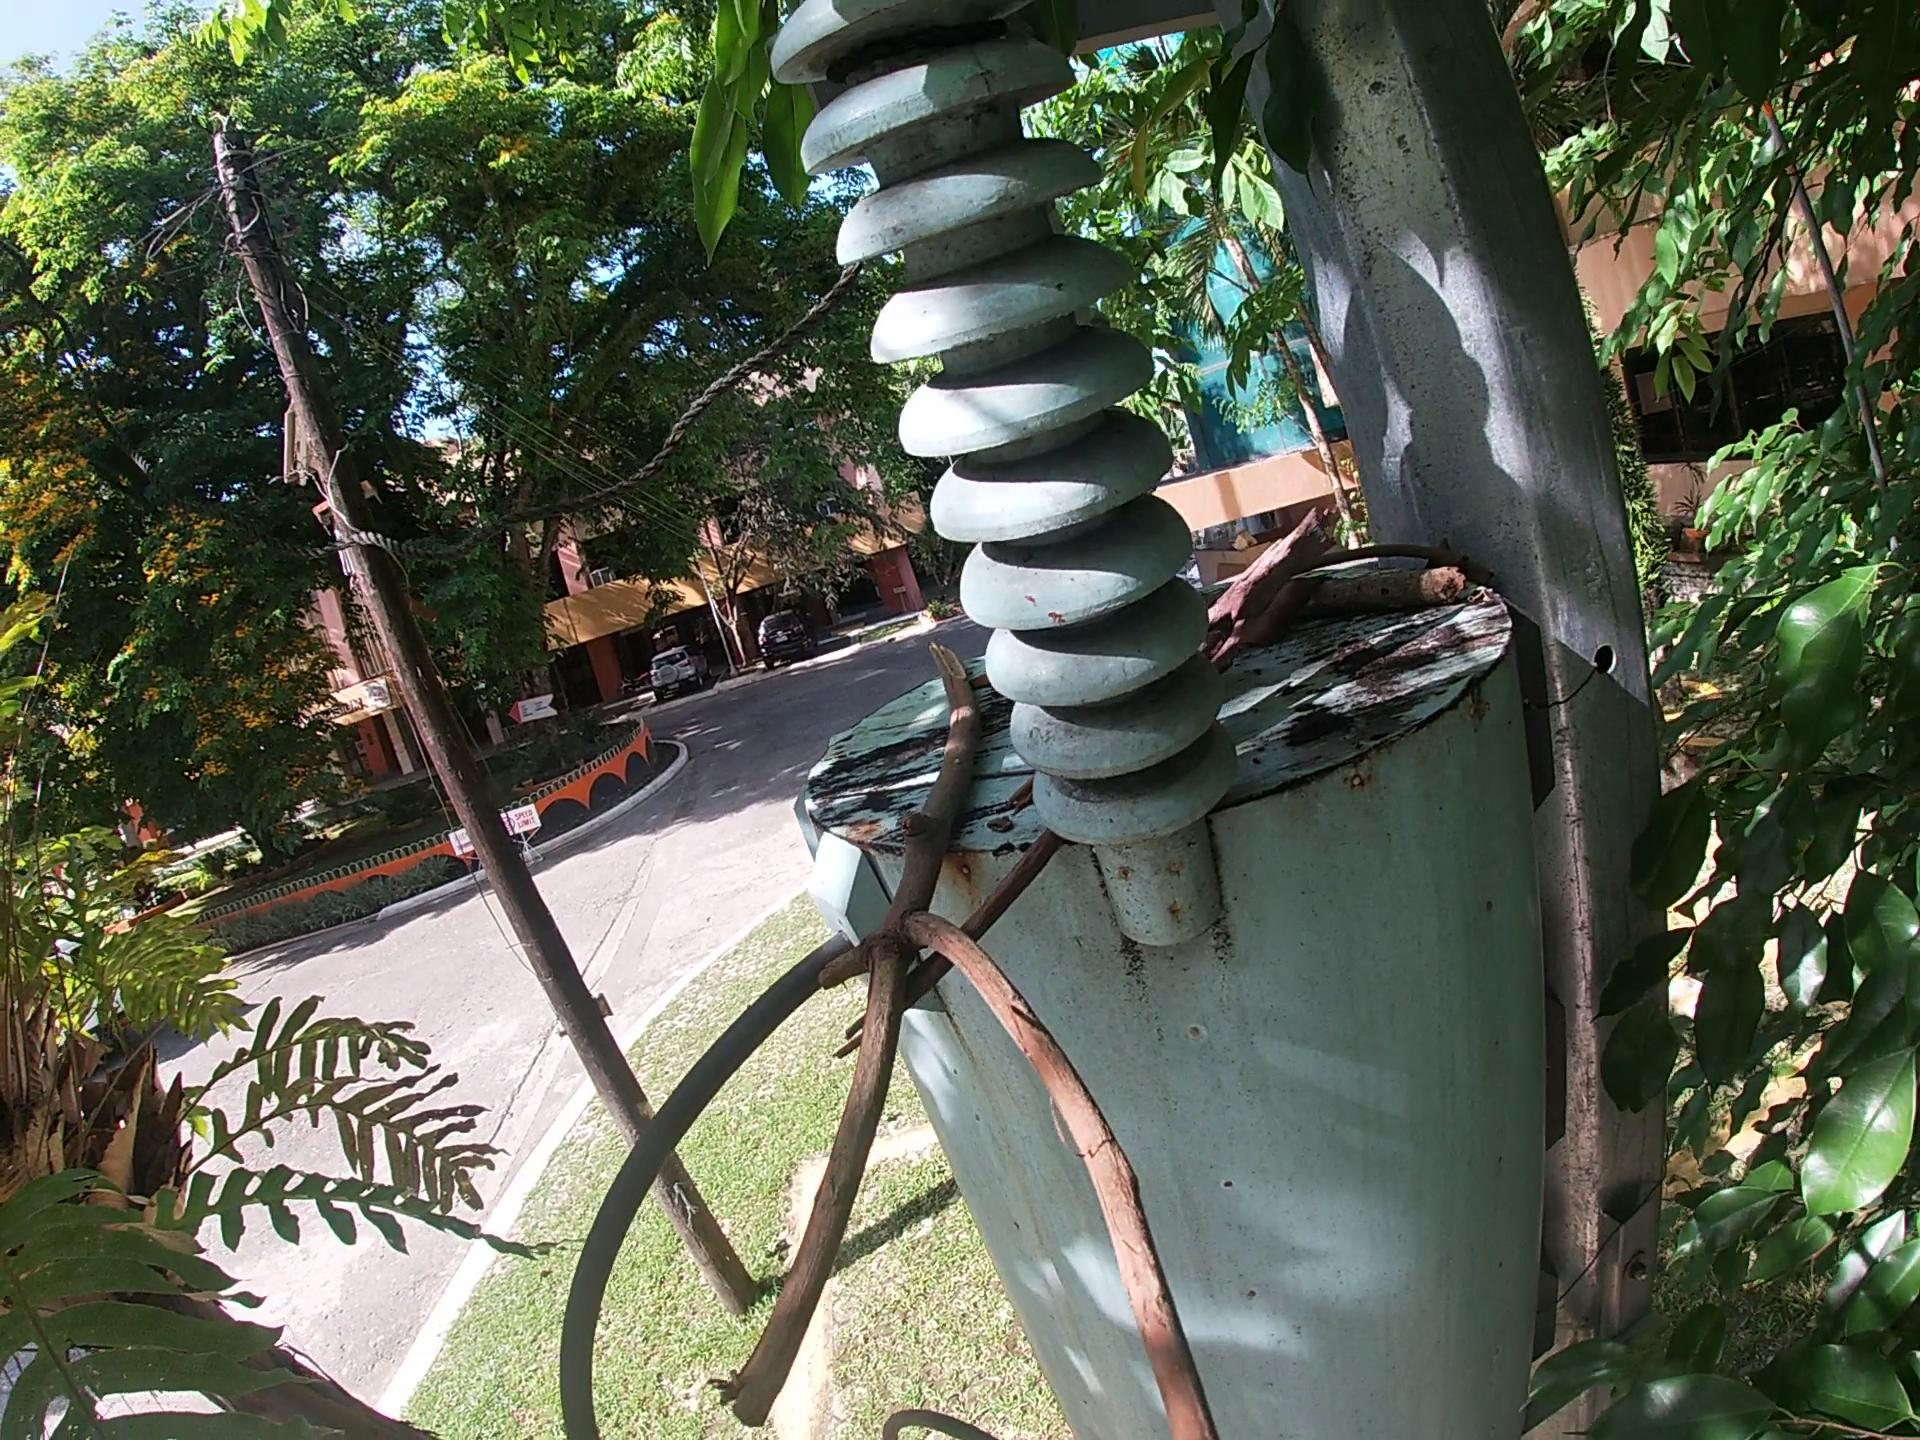leaf: (1241, 572, 1330, 649)
tree branch: (694, 622, 1241, 1438), (835, 827, 1078, 1072), (1191, 496, 1352, 664), (1268, 560, 1479, 625), (1306, 538, 1500, 590)
